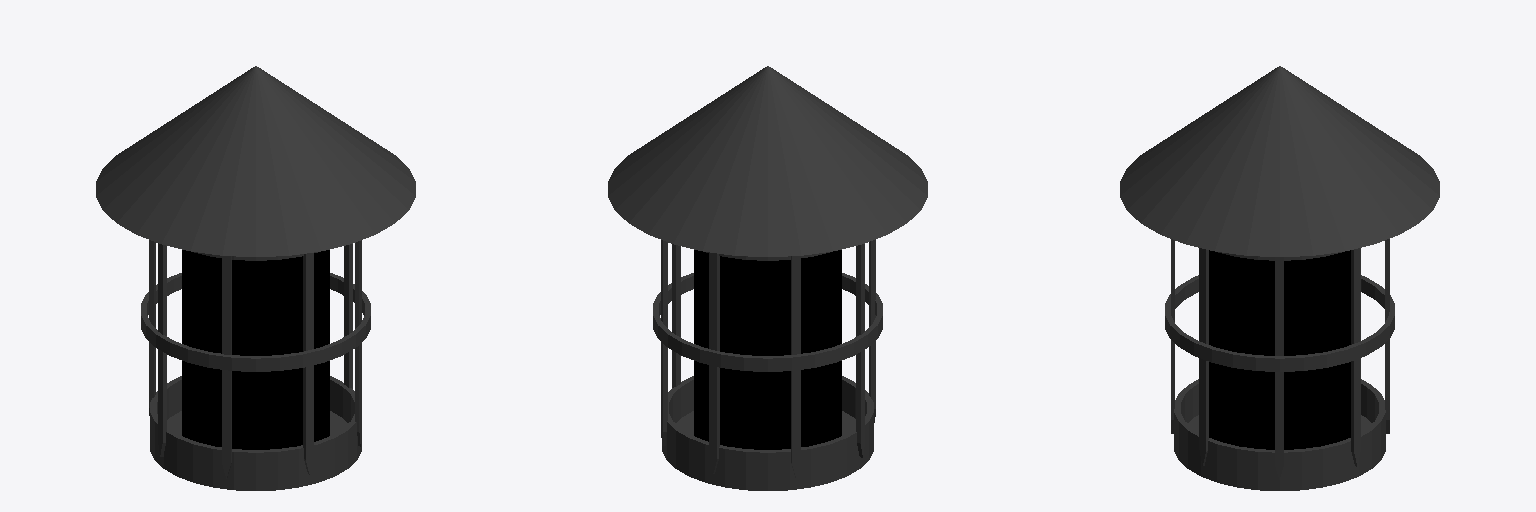
The model's file is 5(lamp_without_holder).obj.
3 views of the same model, side by side, from view 1: azimuth 30°, elevation 25°; view 2: azimuth 150°, elevation 25°; view 3: azimuth 270°, elevation 25° (orthographic).
Visible parts, largest first — view 1: Object006; view 2: Object006; view 3: Object006.
Boxes of the visible parts, x1,y1,x2,y2 form: Object006: [96, 66, 415, 490]; Object006: [608, 66, 927, 490]; Object006: [1120, 66, 1439, 490].
Bounding box in the file's own units: 18.6 × 24.26 × 18.5.